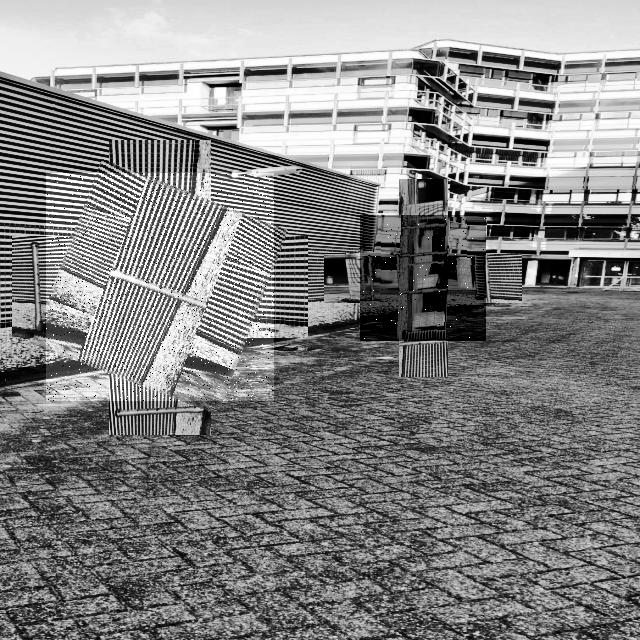fences: (46, 173, 274, 401), (360, 215, 486, 341)
